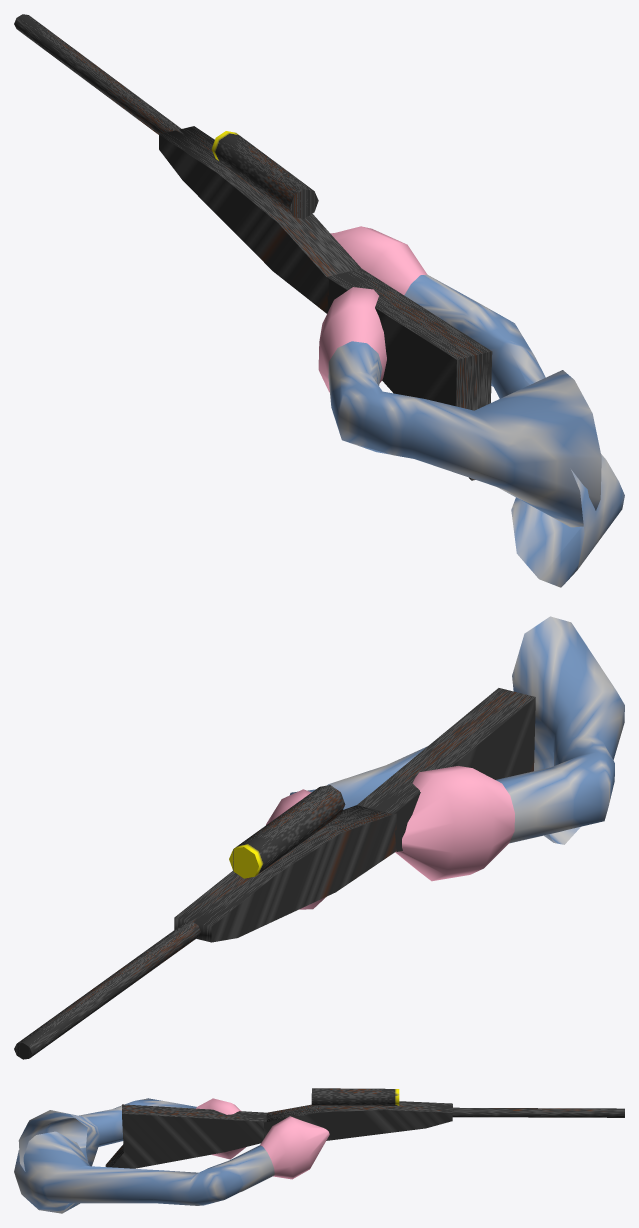
The model's file is arm_and_gun.obj.
The picture shows the model from 3 angles, top to bottom: view 1: azimuth 30°, elevation 25°; view 2: azimuth 150°, elevation 25°; view 3: azimuth 270°, elevation 25°; orthographic projection. The views are drawn at different scales.
Visible parts, largest first — view 1: ewrew, zfghffd; view 2: zfghffd, ewrew; view 3: ewrew, zfghffd.
Boxes of the visible parts, box(x1,y1,x2,y2) form: ewrew: box(318, 226, 624, 587); zfghffd: box(14, 14, 492, 480); zfghffd: box(14, 688, 535, 1059); ewrew: box(266, 616, 624, 909); ewrew: box(14, 1098, 329, 1213); zfghffd: box(105, 1088, 624, 1168).
Bounding box in the file's own units: 27.91 × 24.89 × 112.
Materials: 1 (1 with a texture image).
